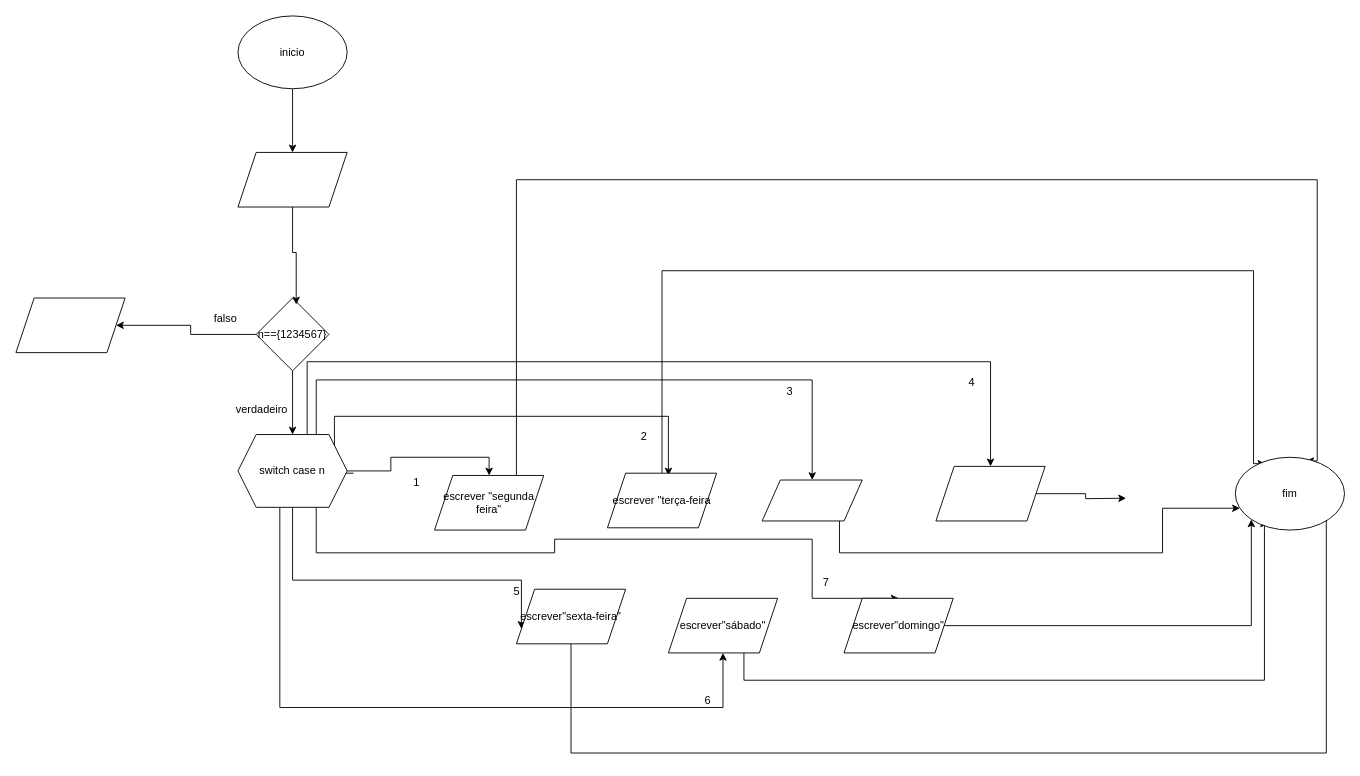
Image size: 1360x776. Some labels were removed from this diagram. Each missing label, with the centre of its shape:
escrever "erro": pixel 70 325
escrever "quinta-feira": pixel 990 493
escrever"quarta-feira": pixel 811 500
ler n: pixel 292 179
